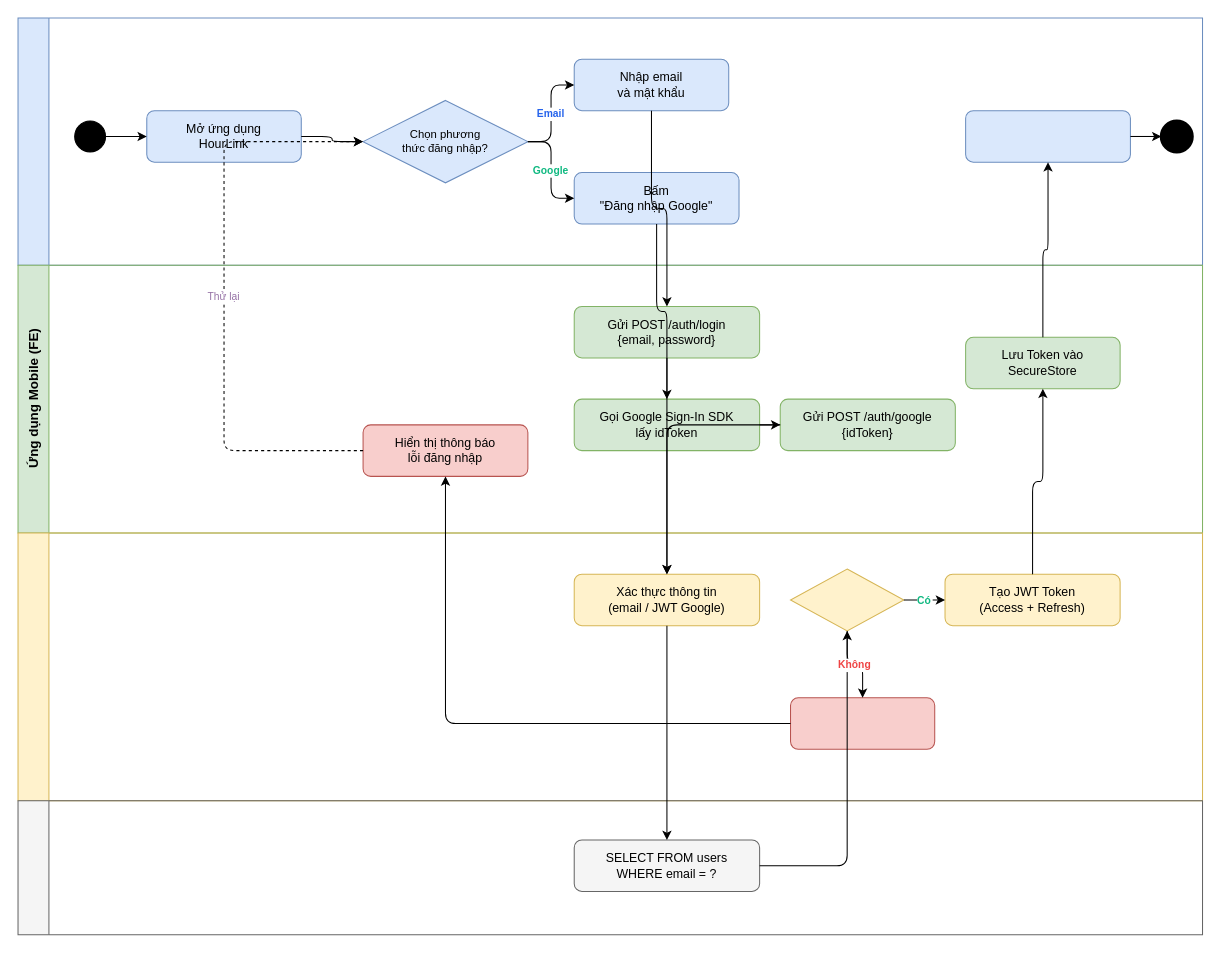
Image size: 1221x953. Some labels were removed from this diagram. Each missing label, with the box of its shape:
Cơ sở dữ liệu: (17, 800, 1203, 935)
Hợp lệ?: (789, 568, 904, 631)
Người dùng: (17, 17, 1203, 265)
Server Backend (BE): (17, 532, 1203, 801)
Trả về 401 Unauthorized: (789, 697, 935, 749)
Vào trang chính (HomeScreen): (965, 110, 1130, 162)
